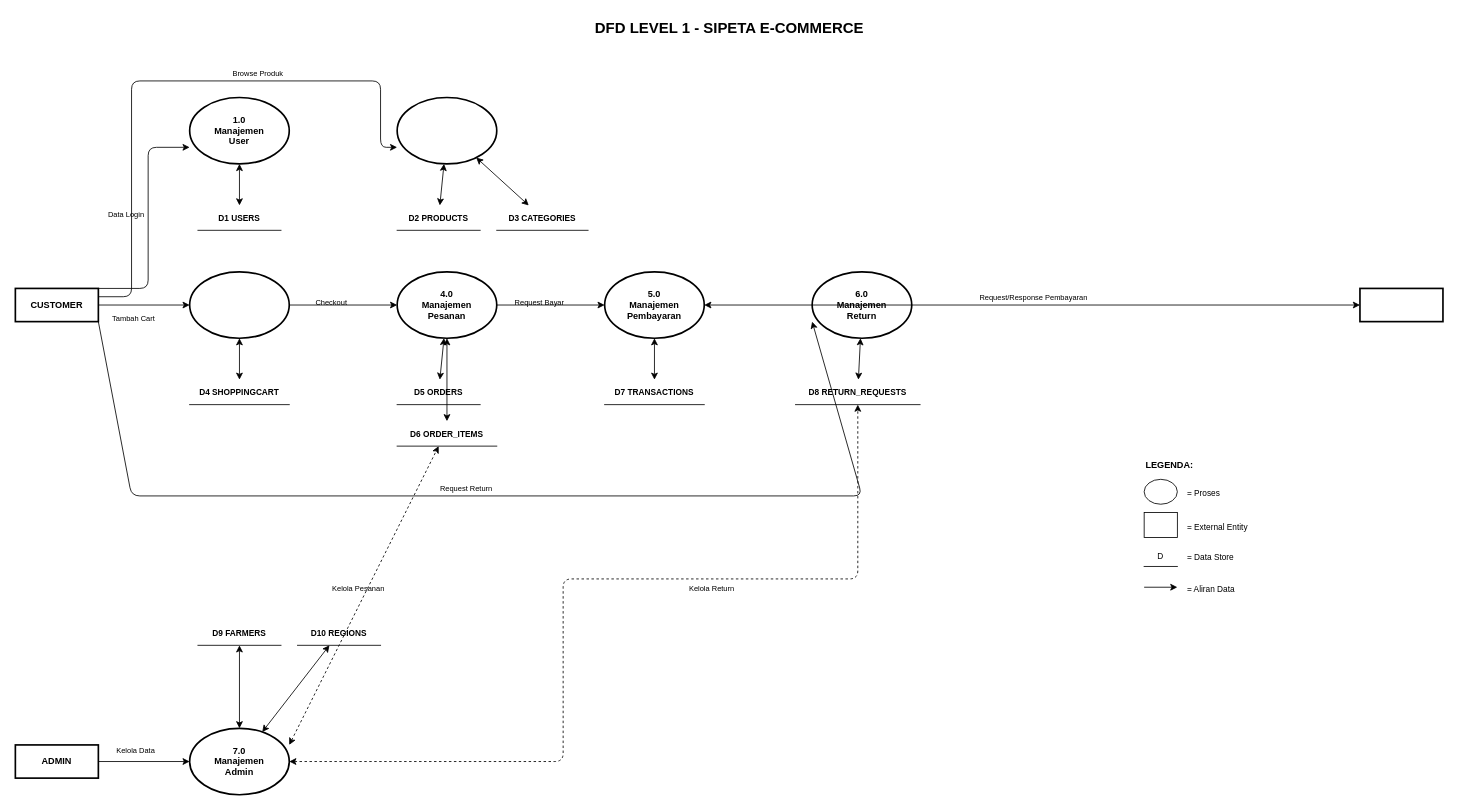
Image size: 1457x809. Some labels were removed from this diagram. The centre of each missing label's shape, as x and y in pixels:
"2.0 Manajemen Produk" goes at pixel 446 130.
"3.0 Manajemen Keranjang" goes at pixel 239 305.
"PAYMENT GATEWAY" goes at pixel 1401 304.
